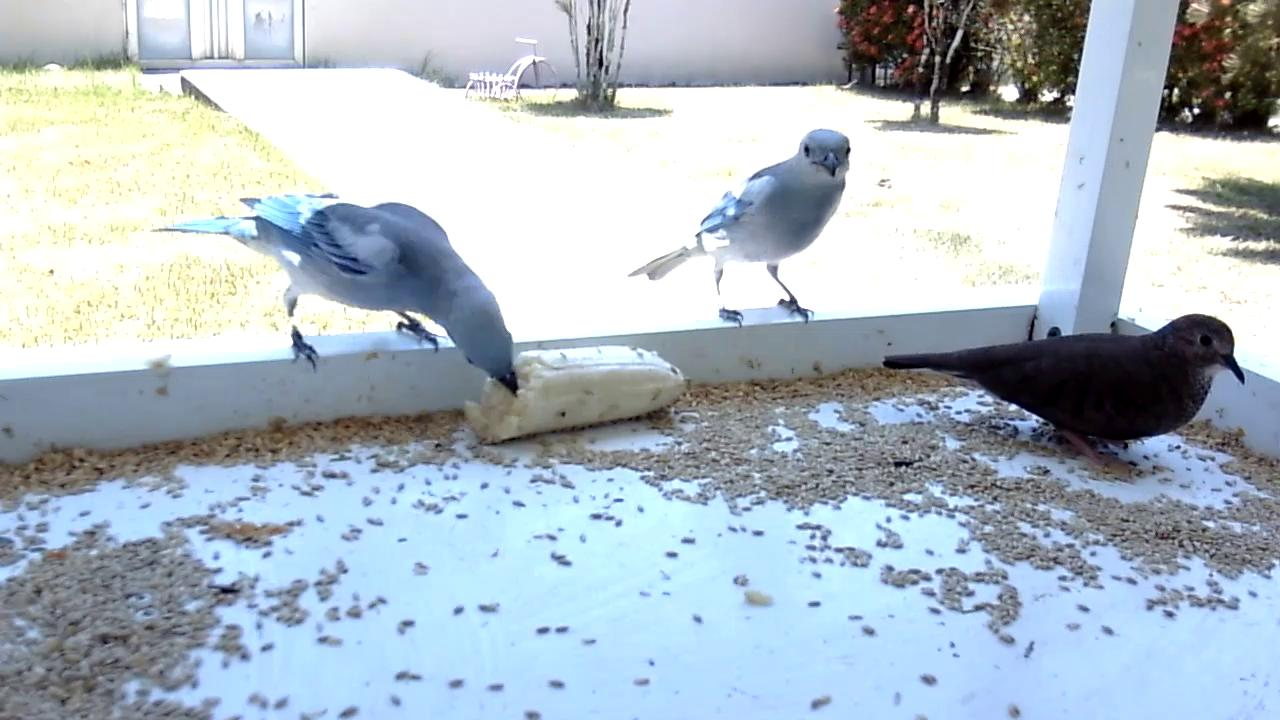rolinha: (882, 314, 1250, 472)
sanhaco_da_amazonia: (150, 190, 521, 397), (630, 128, 854, 330)
